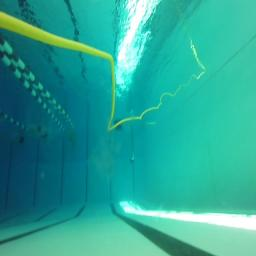Full: (116, 124, 122, 129)
front: (129, 154, 135, 163)
